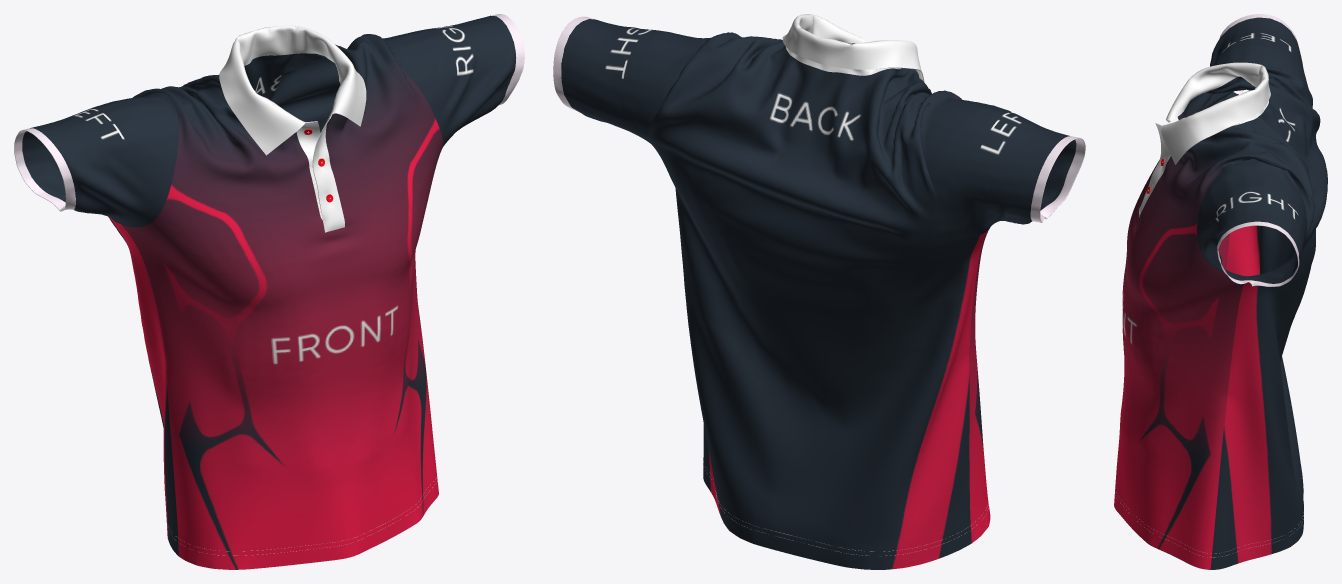
File: poloshirt01.glb
3 renders of one model, left to right at view 1: azimuth 30°, elevation 25°; view 2: azimuth 150°, elevation 25°; view 3: azimuth 270°, elevation 25°, orthographic. The views are drawn at different scales.
Parts seen in each view (by area): view 1: Polo; view 2: Polo; view 3: Polo.
Part boxes in pixels (bbox=[...]): Polo: bbox=[14, 14, 524, 569]; Polo: bbox=[553, 14, 1085, 569]; Polo: bbox=[1114, 14, 1327, 569].
Bounding box in the file's own units: 4.05 × 3.91 × 1.73.
3 materials, 1 textured.
